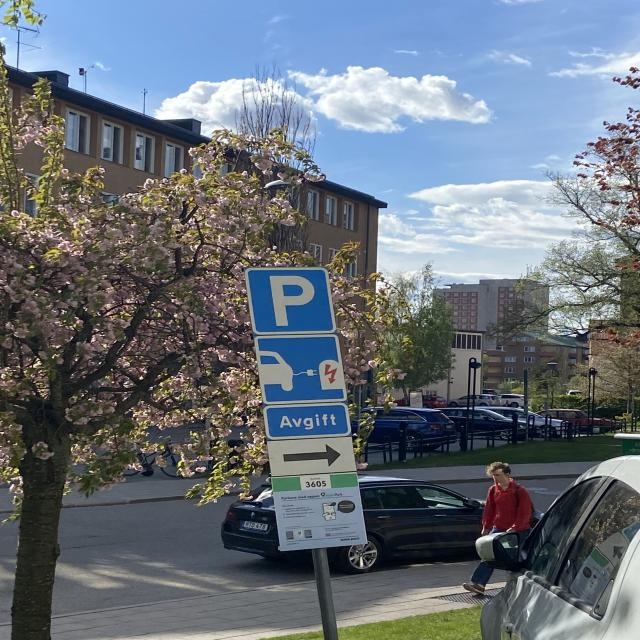P-skylt: (246, 269, 338, 332)
